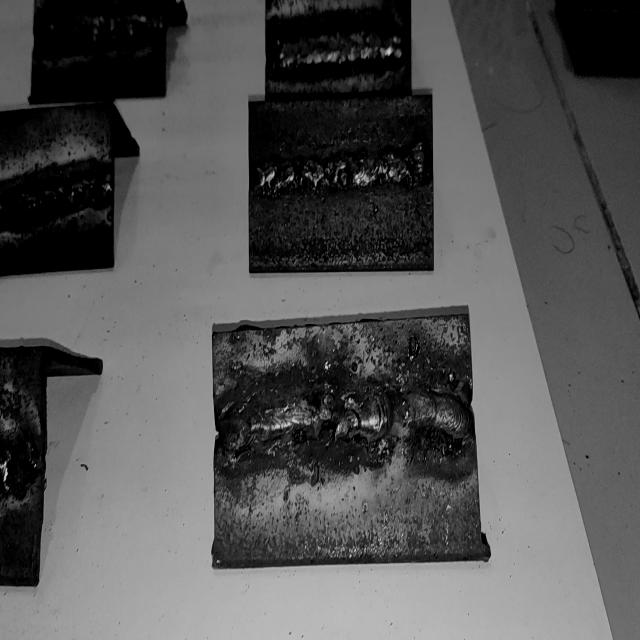Bad Weld: (219, 383, 473, 464), (250, 149, 431, 197)
Defect: (251, 145, 393, 200), (369, 370, 432, 468), (307, 382, 358, 458), (0, 445, 41, 500)
Good Weld: (36, 2, 166, 50), (0, 167, 114, 221), (268, 30, 405, 70)
